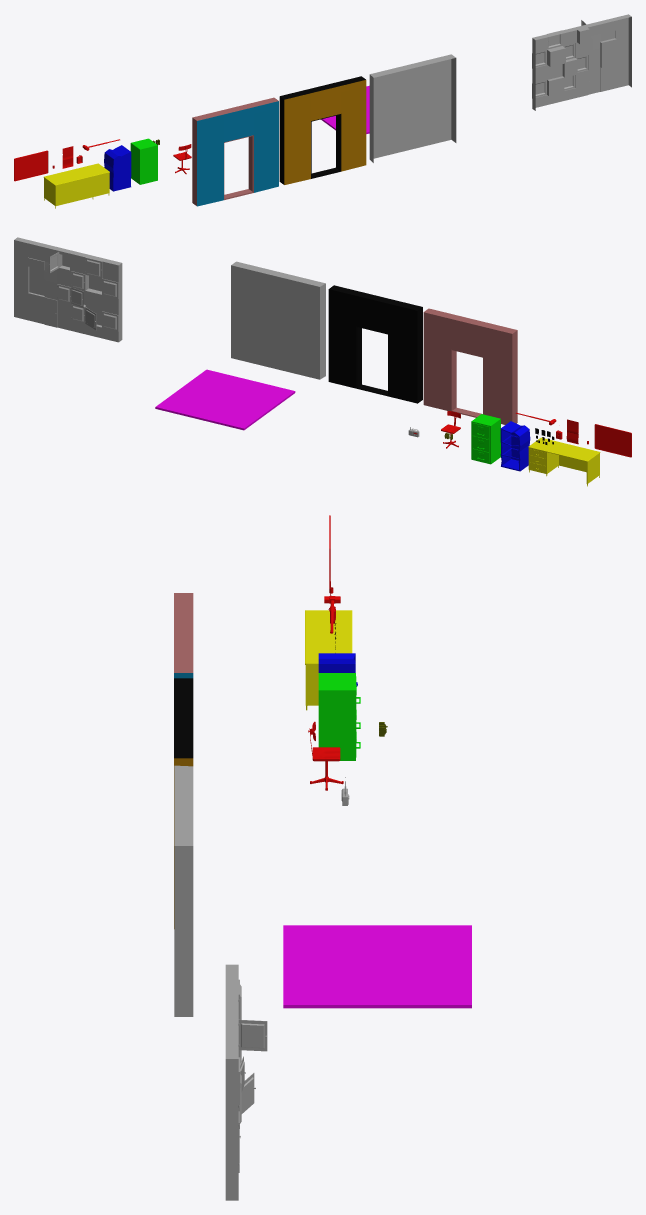
The model's file is MIsho objs V2.fbx.
3 renders of one model, top to bottom at view 1: azimuth 30°, elevation 25°; view 2: azimuth 150°, elevation 25°; view 3: azimuth 270°, elevation 25°, orthographic. The views are drawn at different scales.
Visible parts, largest first — view 1: Wall, pCube11, Wall_doorway1, Wall_doorway, Desk_body, Cabinet, Cabinet_destroyed, Board, Floor; view 2: Wall, pCube11, Wall_doorway1, Wall_doorway, Floor, Desk_body, Cabinet, Cabinet_destroyed, Board; view 3: Floor, Wall, pCube11, Cabinet, Desk_body, Wall_doorway1, Wall_doorway, pCube14.
Part boxes in pixels (<box>): Wall: <box>369,54,456,162</box>; pCube11: <box>532,14,631,110</box>; Wall_doorway1: <box>279,76,366,184</box>; Wall_doorway: <box>192,97,278,206</box>; Desk_body: <box>43,163,109,206</box>; Cabinet: <box>130,138,157,184</box>; Cabinet_destroyed: <box>104,145,131,191</box>; Board: <box>14,150,48,181</box>; Floor: <box>321,85,369,133</box>; Wall: <box>231,261,325,379</box>; pCube11: <box>14,237,122,342</box>; Wall_doorway1: <box>328,285,422,403</box>; Wall_doorway: <box>423,308,517,424</box>; Floor: <box>155,369,295,430</box>; Desk_body: <box>528,437,600,483</box>; Cabinet: <box>471,414,500,464</box>; Cabinet_destroyed: <box>500,421,530,471</box>; Board: <box>594,424,631,457</box>; Floor: <box>283,925,471,1008</box>; Wall: <box>174,765,193,1016</box>; pCube11: <box>225,964,241,1200</box>; Cabinet: <box>318,673,356,760</box>; Desk_body: <box>305,610,352,705</box>; Wall_doorway1: <box>174,678,193,928</box>; Wall_doorway: <box>174,593,193,678</box>; pCube14: <box>238,1019,267,1051</box>.
Bounding box in the file's own units: 2185 × 303 × 477.
